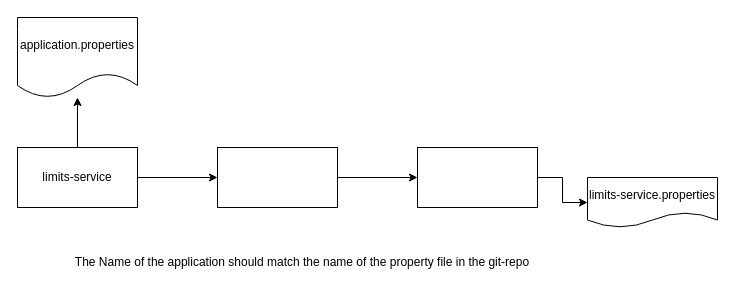
This 735x295 diagram has some shape labels left out. Each missing label, with the centre of its shape:
config-server: the point at 277,177
git-repo: the point at 477,177
